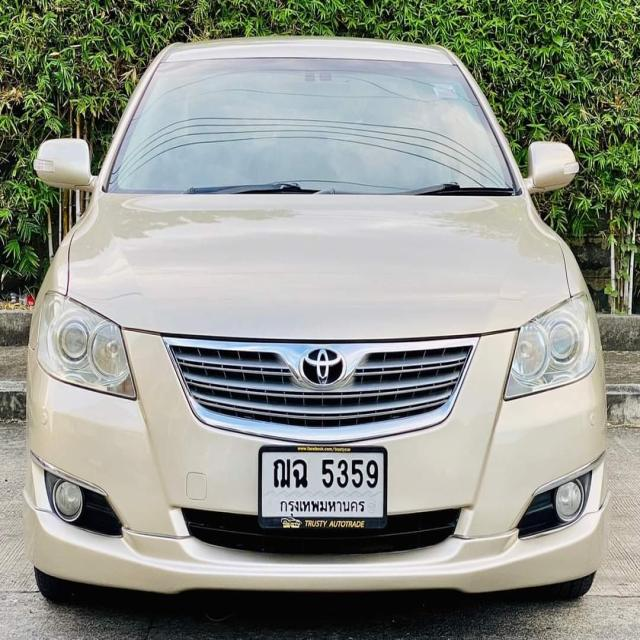license_plate: (258, 438, 388, 528)
